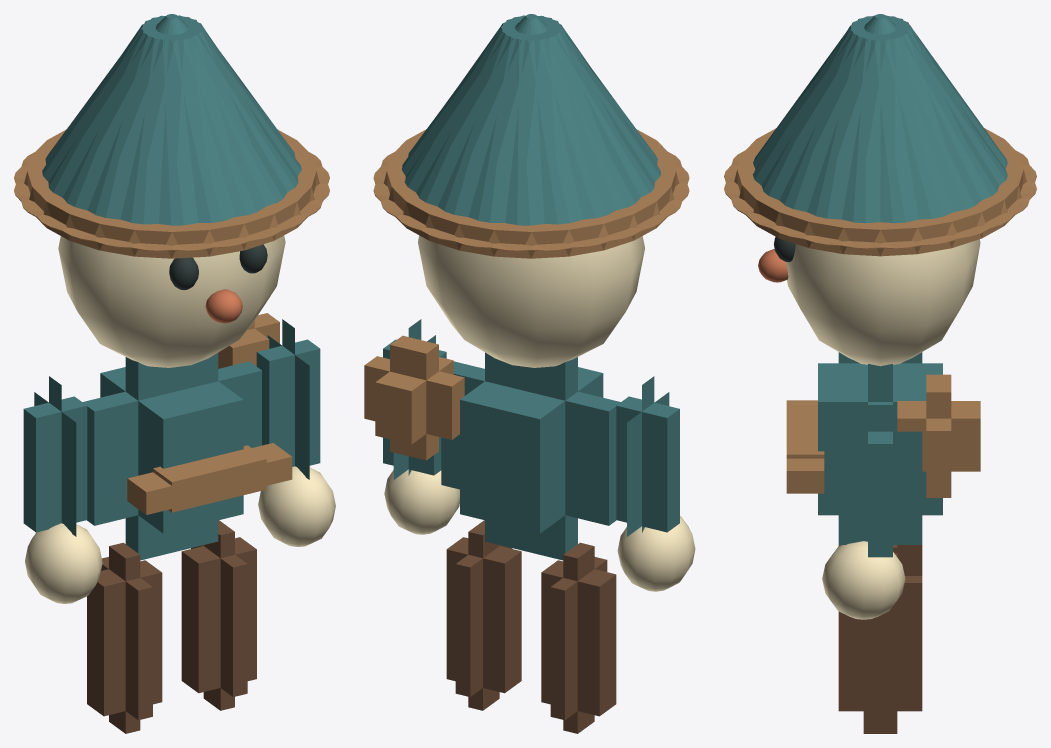
Rendered from citizen.glb.
The picture shows the model from 3 angles, left to right: view 1: azimuth 30°, elevation 25°; view 2: azimuth 150°, elevation 25°; view 3: azimuth 270°, elevation 25°; orthographic projection.
Parts seen in each view (by area): view 1: Hat, Tunic, Face, Round, LegLeft, LegRight, ArmLeft, ArmRight, Block, Organic.003, Organic.004, Block.001 (+3 smaller); view 2: Hat, Tunic, Face, Round, LegLeft, LegRight, Block.001, ArmLeft, Organic.003, Organic.004, ArmRight; view 3: Hat, Face, Round, ArmRight, LegRight, Tunic, Block.001, Organic.004, Block, LegLeft, Organic.002.
Part boxes in pixels (bbox=[...]): Hat: bbox=[42, 14, 301, 225]; Tunic: bbox=[82, 353, 261, 560]; Face: bbox=[58, 235, 285, 367]; Round: bbox=[14, 129, 329, 258]; LegLeft: bbox=[87, 542, 162, 733]; LegRight: bbox=[181, 520, 256, 710]; ArmLeft: bbox=[23, 376, 87, 536]; ArmRight: bbox=[256, 319, 320, 479]; Block: bbox=[127, 443, 292, 514]; Organic.003: bbox=[25, 523, 102, 603]; Organic.004: bbox=[258, 466, 335, 546]; Block.001: bbox=[218, 313, 279, 368]; Hat: bbox=[402, 14, 660, 225]; Tunic: bbox=[441, 352, 620, 560]; Face: bbox=[418, 235, 644, 367]; Round: bbox=[373, 129, 689, 258]; LegLeft: bbox=[541, 542, 616, 733]; LegRight: bbox=[446, 520, 521, 710]; Block.001: bbox=[364, 335, 464, 460]; ArmLeft: bbox=[616, 376, 679, 536]; Organic.003: bbox=[617, 516, 695, 591]; Organic.004: bbox=[384, 469, 459, 534]; ArmRight: bbox=[383, 319, 446, 479]; Hat: bbox=[752, 14, 1007, 223]; Face: bbox=[785, 239, 980, 366]; Round: bbox=[724, 128, 1036, 256]; ArmRight: bbox=[838, 405, 922, 557]; LegRight: bbox=[838, 553, 922, 733]; Tunic: bbox=[818, 363, 942, 515]; Block.001: bbox=[897, 374, 980, 497]; Organic.004: bbox=[822, 541, 905, 619]; Block: bbox=[786, 400, 824, 493]; LegLeft: bbox=[838, 545, 922, 575]; Organic.002: bbox=[758, 249, 788, 282].
Size of the model in its own units: 0.41 by 0.915 by 0.3753.
